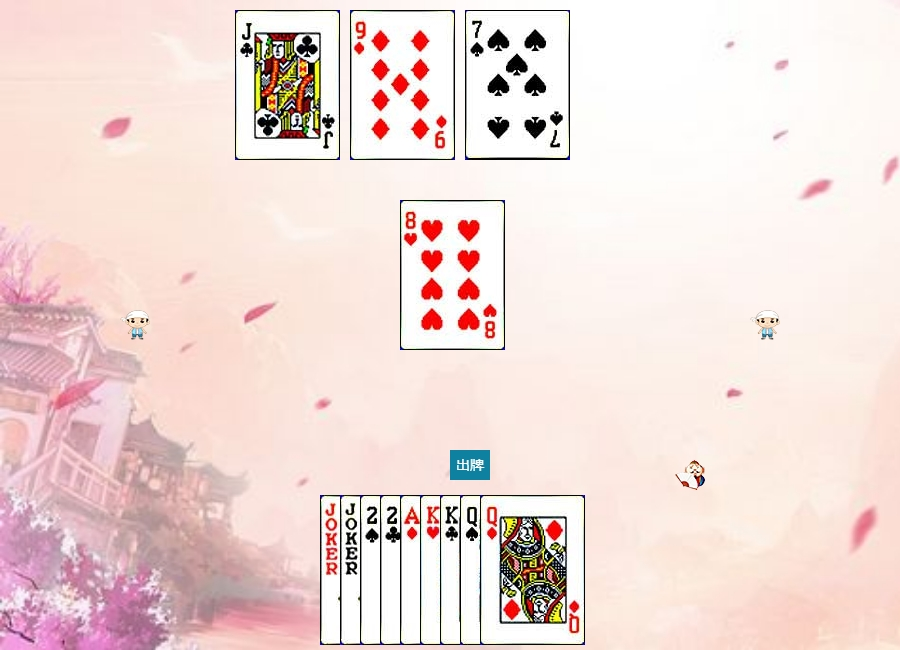11~2: (235, 10, 340, 160)
12~1: (480, 495, 585, 645)
12~4: (460, 495, 565, 645)
13~2: (440, 495, 545, 645)
13~3: (420, 495, 525, 645)
14~1: (400, 495, 505, 645)
15~2: (380, 495, 485, 645)
15~4: (360, 495, 465, 645)
17~3: (340, 495, 445, 645)
18~4: (320, 495, 425, 645)
7~4: (465, 10, 570, 160)
8~3: (400, 200, 505, 350)
9~1: (350, 10, 455, 160)
